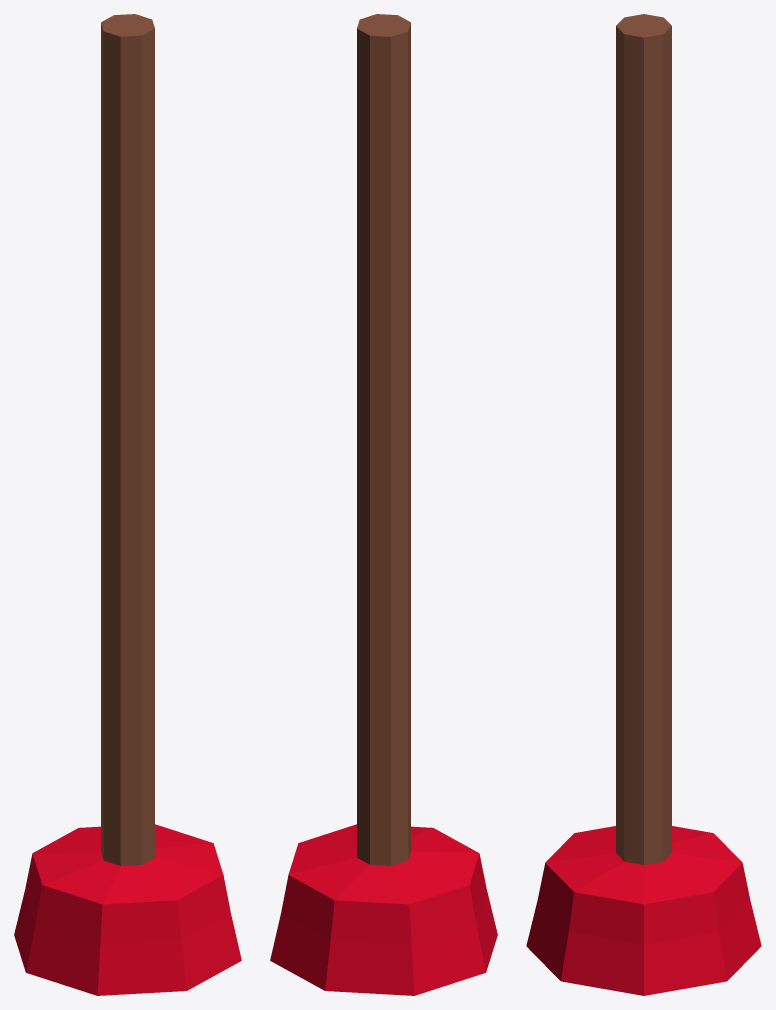
Rendered from destapador.fbx.
3 renders of one model, left to right at view 1: azimuth 30°, elevation 25°; view 2: azimuth 150°, elevation 25°; view 3: azimuth 270°, elevation 25°, orthographic.
Parts seen in each view (by area): view 1: Cylinder; view 2: Cylinder; view 3: Cylinder.
Boxes of the visible parts, x1,y1,x2,y2 form: Cylinder: (14, 14, 241, 995); Cylinder: (270, 14, 497, 995); Cylinder: (526, 14, 761, 995).
Size of the model in its own units: 238 by 1029 by 238.
